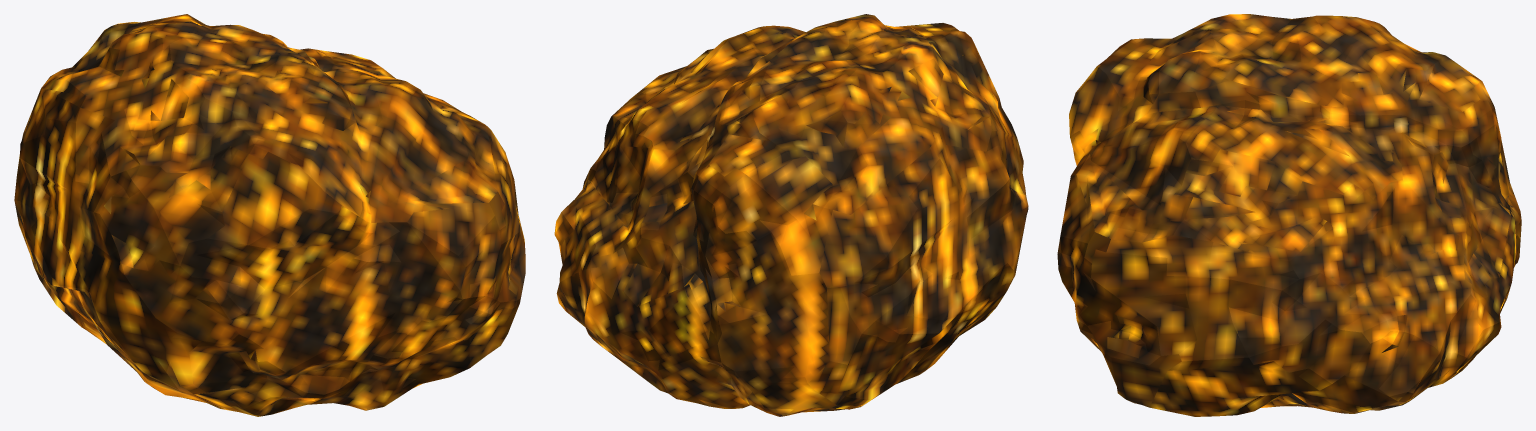
The model's file is meteor_yellow_05.glb.
3 renders of one model, left to right at view 1: azimuth 30°, elevation 25°; view 2: azimuth 150°, elevation 25°; view 3: azimuth 270°, elevation 25°, orthographic. The views are drawn at different scales.
Parts seen in each view (by area): view 1: Mesh1.0; view 2: Mesh1.0; view 3: Mesh1.0.
Part boxes in pixels (box(x1,y1,x2,y2)): Mesh1.0: box(14, 14, 525, 416); Mesh1.0: box(554, 14, 1028, 416); Mesh1.0: box(1057, 14, 1521, 416).
Bounding box in the file's own units: 1.87 × 1.46 × 1.9.
1 material, 1 textured.
